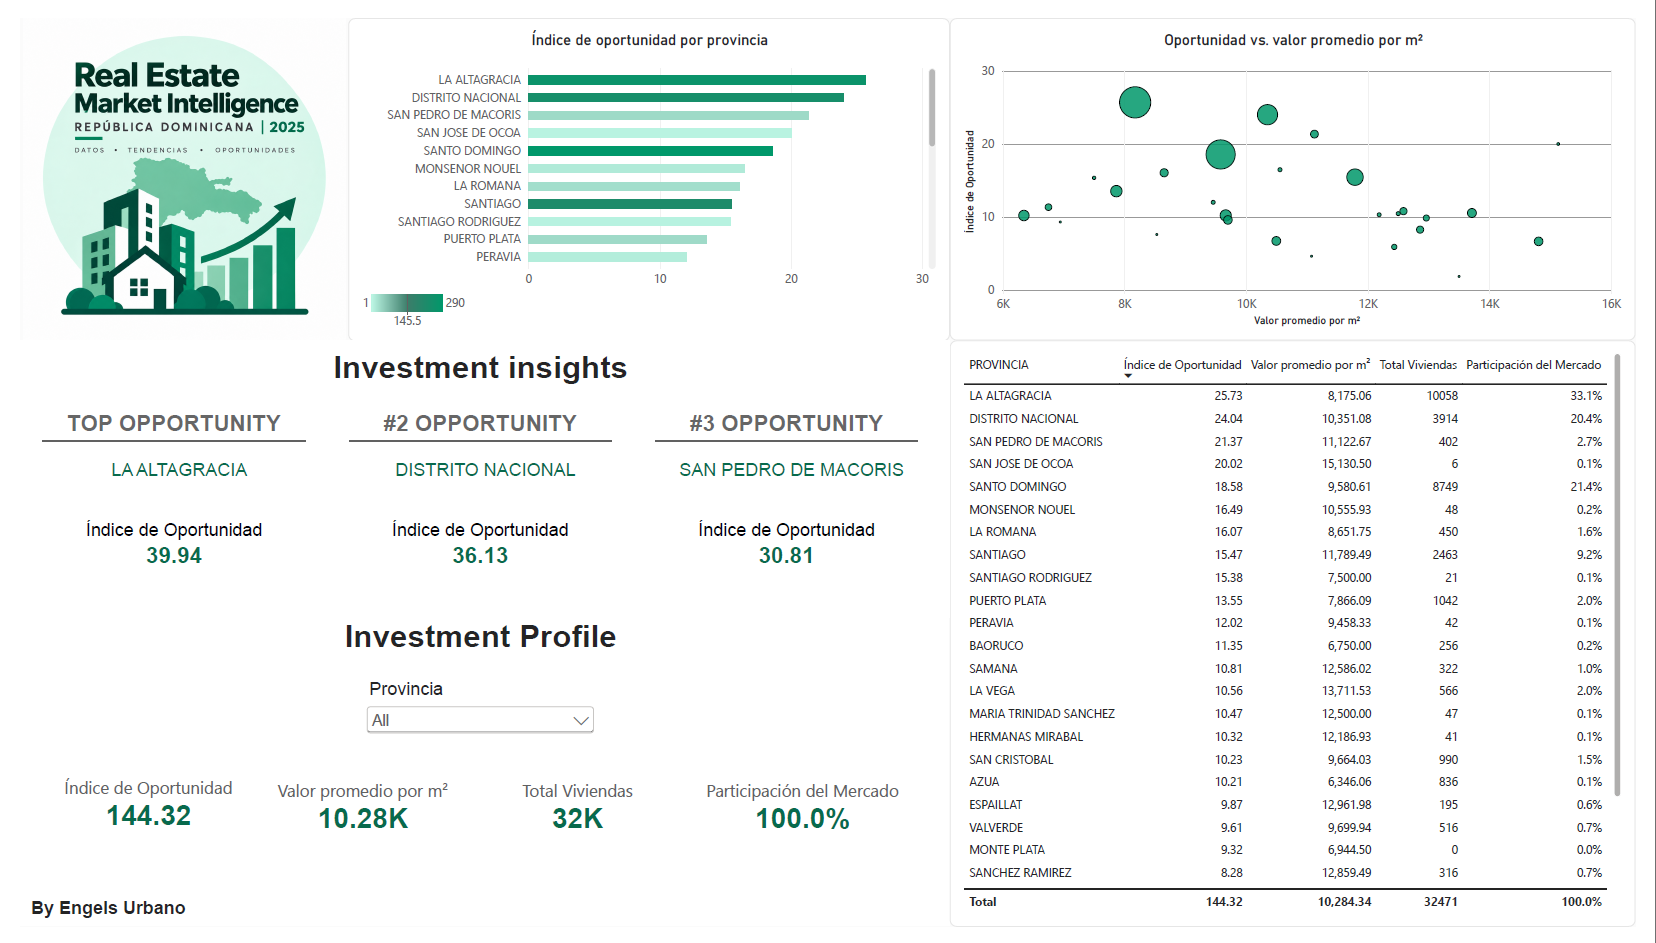

Layout of this report page (visuals, bound fields, positions):
{"tool":"powerbi","page":{"name":"Investment Insights","canvas":[1920,1080],"ordinal":1},"visuals":[{"type":"shape","box":[0,710.6,1105,368.3],"z":0},{"type":"image","box":[0,0,390,383.3],"z":1000},{"type":"clusteredBarChart","title":"Índice de oportunidad por provincia","fields":{"Category":["fact_licencias_construccion.PROVINCIA"],"Y":["fact_licencias_construccion.Índice de Oportunidad"]},"box":[390,0,715.1,383.8],"z":2000},{"type":"cardVisual","title":" #3 OPPORTUNITY","fields":{"Data":["fact_licencias_construccion.Índice de Oportunidad"],"Rows":["fact_licencias_construccion.PROVINCIA"]},"box":[735.6,447.2,351.7,251.7],"z":2000,"group":"g1"},{"type":"scatterChart","title":"Oportunidad vs. valor promedio por m²","fields":{"Category":["fact_licencias_construccion.PROVINCIA"],"Size":["fact_licencias_construccion.Total Viviendas"],"X":["fact_licencias_construccion.Valor promedio por m²"],"Y":["fact_licencias_construccion.Índice de Oportunidad"]},"box":[1105,0,815,383.3],"z":3000},{"type":"cardVisual","title":" #2 OPPORTUNITY","fields":{"Data":["fact_licencias_construccion.Índice de Oportunidad"],"Rows":["fact_licencias_construccion.PROVINCIA"]},"box":[371.5,447.2,351.7,251.7],"z":3000,"group":"g1"},{"type":"tableEx","fields":{"Values":["fact_licencias_construccion.PROVINCIA","fact_licencias_construccion.Índice de Oportunidad","fact_licencias_construccion.Valor promedio por m²","fact_licencias_construccion.Total Viviendas","fact_licencias_construccion.Participación del Mercado"]},"box":[1105,383.3,815,696.7],"z":4000},{"type":"shape","box":[0,383.3,1105,328.3],"z":4500},{"type":"textbox","box":[304.8,393.9,485,53.3],"z":5000,"group":"g3"},{"type":"cardVisual","title":" TOP OPPORTUNITY","fields":{"Data":["fact_licencias_construccion.Índice de Oportunidad"],"Rows":["fact_licencias_construccion.PROVINCIA"]},"box":[7.3,447.2,351.7,251.7],"z":5000,"group":"g1"},{"type":"group","id":"g1","title":"Group 1","box":[7.3,447.2,1080,251.7],"z":6000,"group":"g3"},{"type":"slicer","fields":{"Values":["fact_licencias_construccion.PROVINCIA"]},"box":[407.3,785.3,280,80],"z":7000,"group":"g4"},{"type":"textbox","box":[13.5,1046.3,190,33.3],"z":7000},{"type":"cardVisual","fields":{"Data":["fact_licencias_construccion.Índice de Oportunidad"]},"box":[29,856.9,246.7,155],"z":8000,"group":"g2"},{"type":"cardVisual","fields":{"Data":["fact_licencias_construccion.Valor promedio por m²"]},"box":[284,865.2,246.7,146.7],"z":9000,"group":"g2"},{"type":"cardVisual","fields":{"Data":["fact_licencias_construccion.Total Viviendas"]},"box":[539,865.2,246.7,146.7],"z":10000,"group":"g2"},{"type":"cardVisual","fields":{"Data":["fact_licencias_construccion.Participación del Mercado"]},"box":[794,865.2,271.7,146.7],"z":11000,"group":"g2"},{"type":"textbox","box":[364.8,713.6,365,43.3],"z":12000,"group":"g4"},{"type":"group","id":"g2","title":"Group 3","box":[29,856.9,1036.7,155],"z":12001,"group":"g4"},{"type":"group","id":"g3","title":"Group 2","box":[7.3,393.9,1080,305],"z":12002},{"type":"group","id":"g4","title":"Group 4","box":[29,713.6,1036.7,298.3],"z":12003}]}

Visuals, with their boxes in screenshot pixels (x1, y1, x2, y2), scaled from the page's 1920x1080 canvas onto the 1656x943 screenshot:
shape: (0, 620, 953, 942)
image: (0, 0, 336, 335)
"Índice de oportunidad por provincia" clusteredBarChart: (336, 0, 953, 335)
" #3 OPPORTUNITY" cardVisual: (634, 390, 938, 610)
"Oportunidad vs. valor promedio por m²" scatterChart: (953, 0, 1655, 335)
" #2 OPPORTUNITY" cardVisual: (320, 390, 624, 610)
tableEx - fact_licencias_construccion.PROVINCIA x fact_licencias_construccion.Índice de Oportunidad: (953, 335, 1655, 942)
shape: (0, 335, 953, 621)
textbox: (263, 344, 681, 390)
" TOP OPPORTUNITY" cardVisual: (6, 390, 310, 610)
"Group 1" group: (6, 390, 938, 610)
slicer - fact_licencias_construccion.PROVINCIA: (351, 686, 593, 756)
textbox: (12, 914, 176, 942)
cardVisual - fact_licencias_construccion.Índice de Oportunidad: (25, 748, 238, 884)
cardVisual - fact_licencias_construccion.Valor promedio por m²: (245, 755, 458, 884)
cardVisual - fact_licencias_construccion.Total Viviendas: (465, 755, 678, 884)
cardVisual - fact_licencias_construccion.Participación del Mercado: (685, 755, 919, 884)
textbox: (315, 623, 629, 661)
"Group 3" group: (25, 748, 919, 884)
"Group 2" group: (6, 344, 938, 610)
"Group 4" group: (25, 623, 919, 884)
